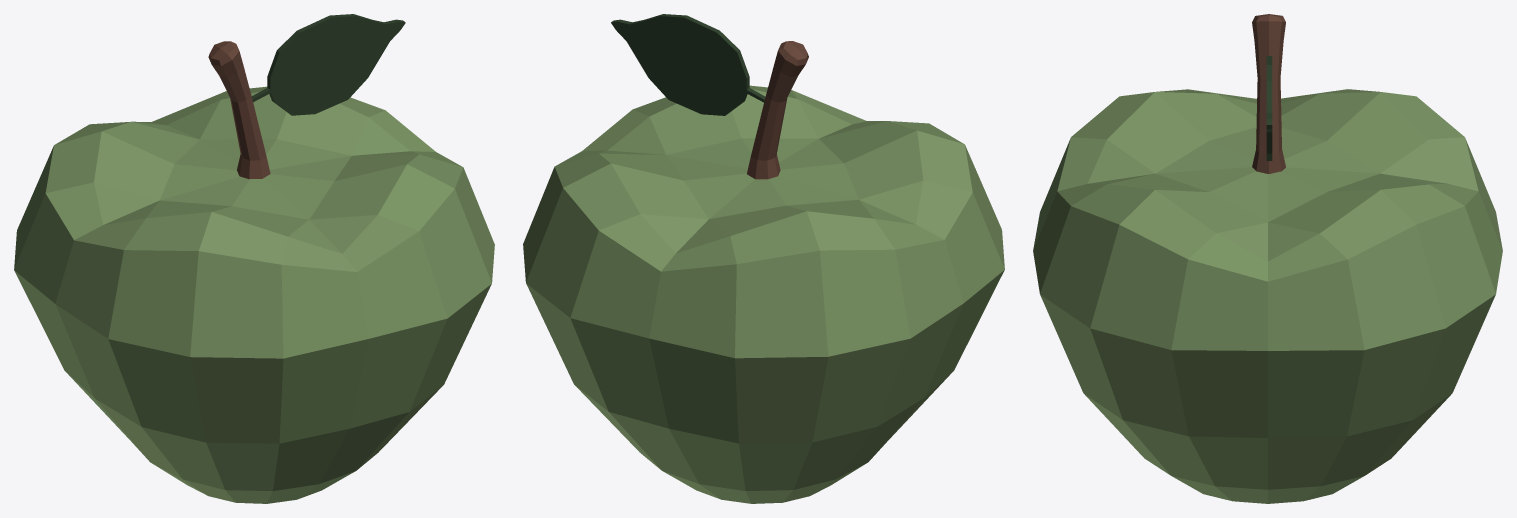
The model's file is Apple Green.glb.
The picture shows the model from 3 angles, left to right: view 1: azimuth 30°, elevation 25°; view 2: azimuth 150°, elevation 25°; view 3: azimuth 270°, elevation 25°; orthographic projection. The views are drawn at different scales.
Parts seen in each view (by area): view 1: Apple_Green; view 2: Apple_Green; view 3: Apple_Green.
Boxes of the visible parts, x1,y1,x2,y2 form: Apple_Green: [14, 14, 494, 503]; Apple_Green: [523, 14, 1004, 503]; Apple_Green: [1033, 14, 1502, 503].
Size of the model in its own units: 0.8025 by 0.8517 by 0.7987.
